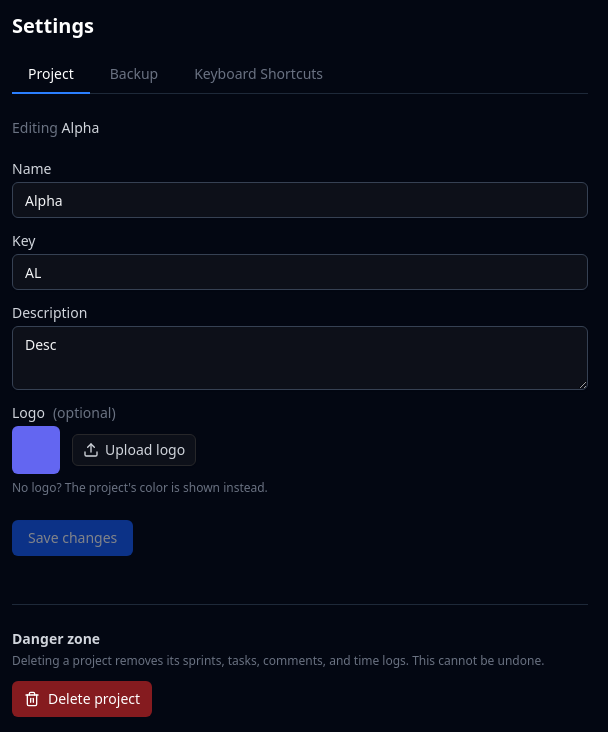
Test: Settings — form › save button is enabled when name is changed
Replace the text in the field labelled "Name" with "Beta": (300, 200) left=12, top=182, right=588, bottom=218
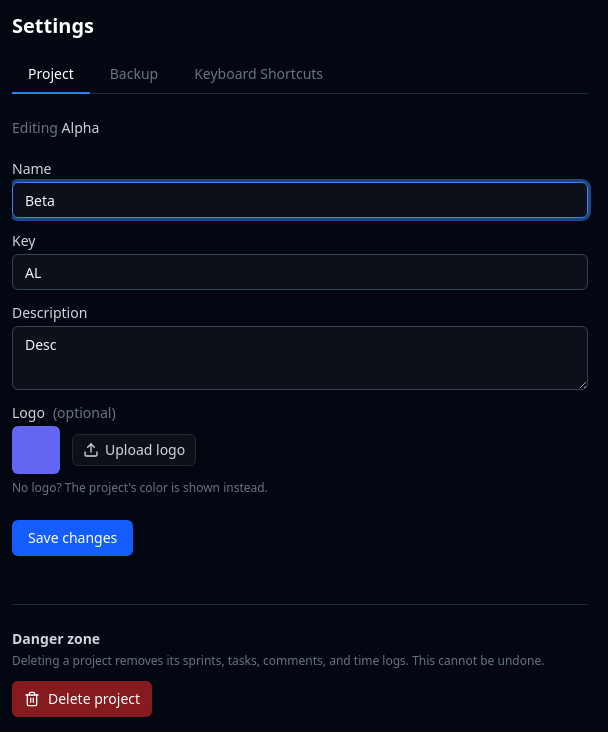
Now the button "Save changes" is enabled, box left=12, top=520, right=133, bottom=556
